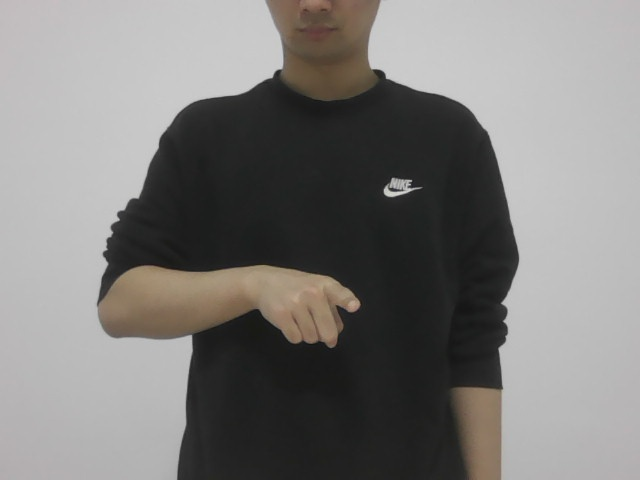you/your/this: (249, 252, 366, 356)
